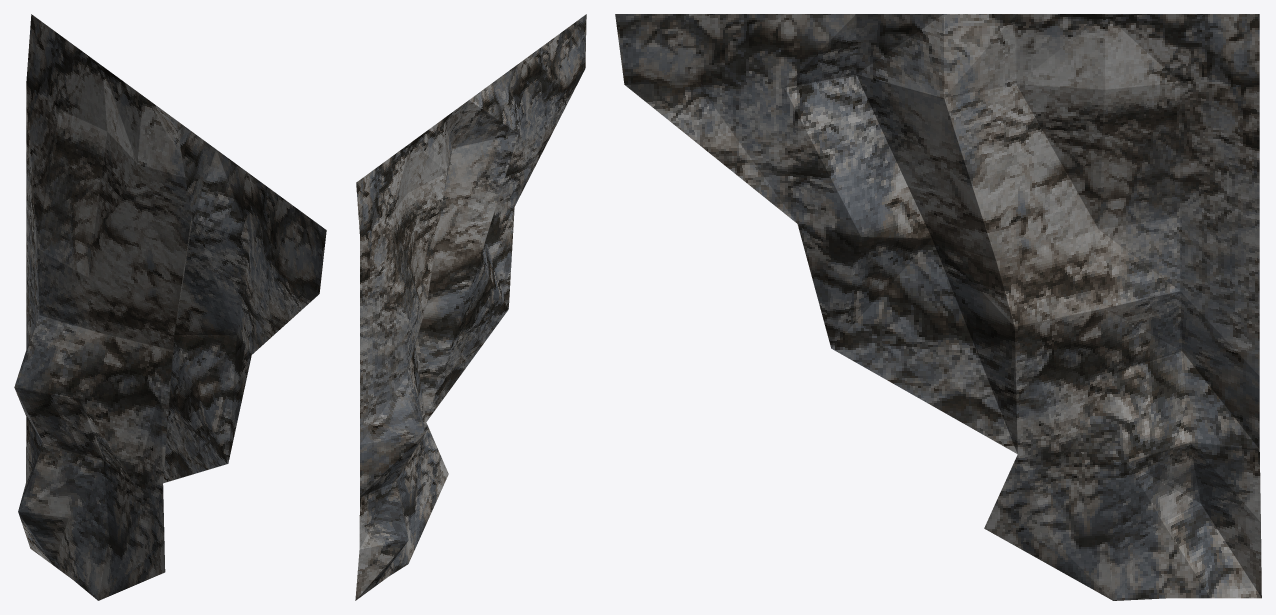
Rendered from 01_wall_01_end.glb.
3 renders of one model, left to right at view 1: azimuth 30°, elevation 25°; view 2: azimuth 150°, elevation 25°; view 3: azimuth 270°, elevation 25°, orthographic. The views are drawn at different scales.
Parts seen in each view (by area): view 1: EXPORT_ORG_01_wall_01_end; view 2: EXPORT_ORG_01_wall_01_end; view 3: EXPORT_ORG_01_wall_01_end.
Boxes of the visible parts, x1,y1,x2,y2 form: EXPORT_ORG_01_wall_01_end: [14, 14, 326, 600]; EXPORT_ORG_01_wall_01_end: [355, 14, 586, 600]; EXPORT_ORG_01_wall_01_end: [615, 14, 1261, 600].
Size of the model in its own units: 2.92 by 16.08 by 16.05.
Materials: 1 (1 with a texture image).
